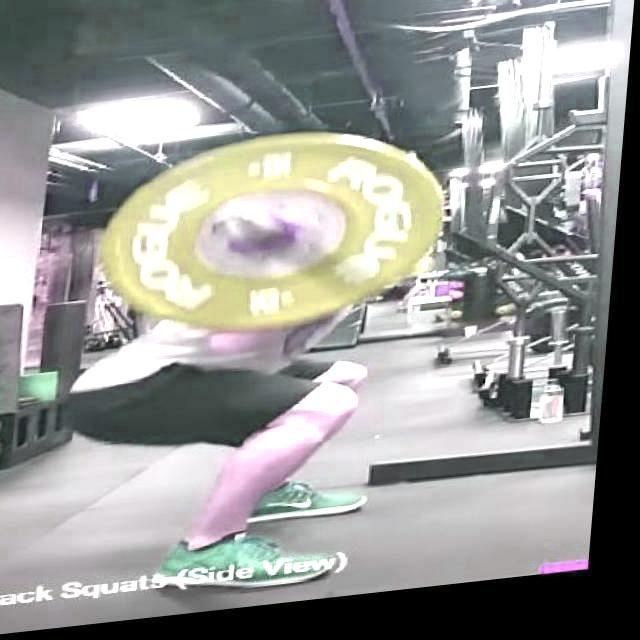barbell: (93, 121, 462, 352)
